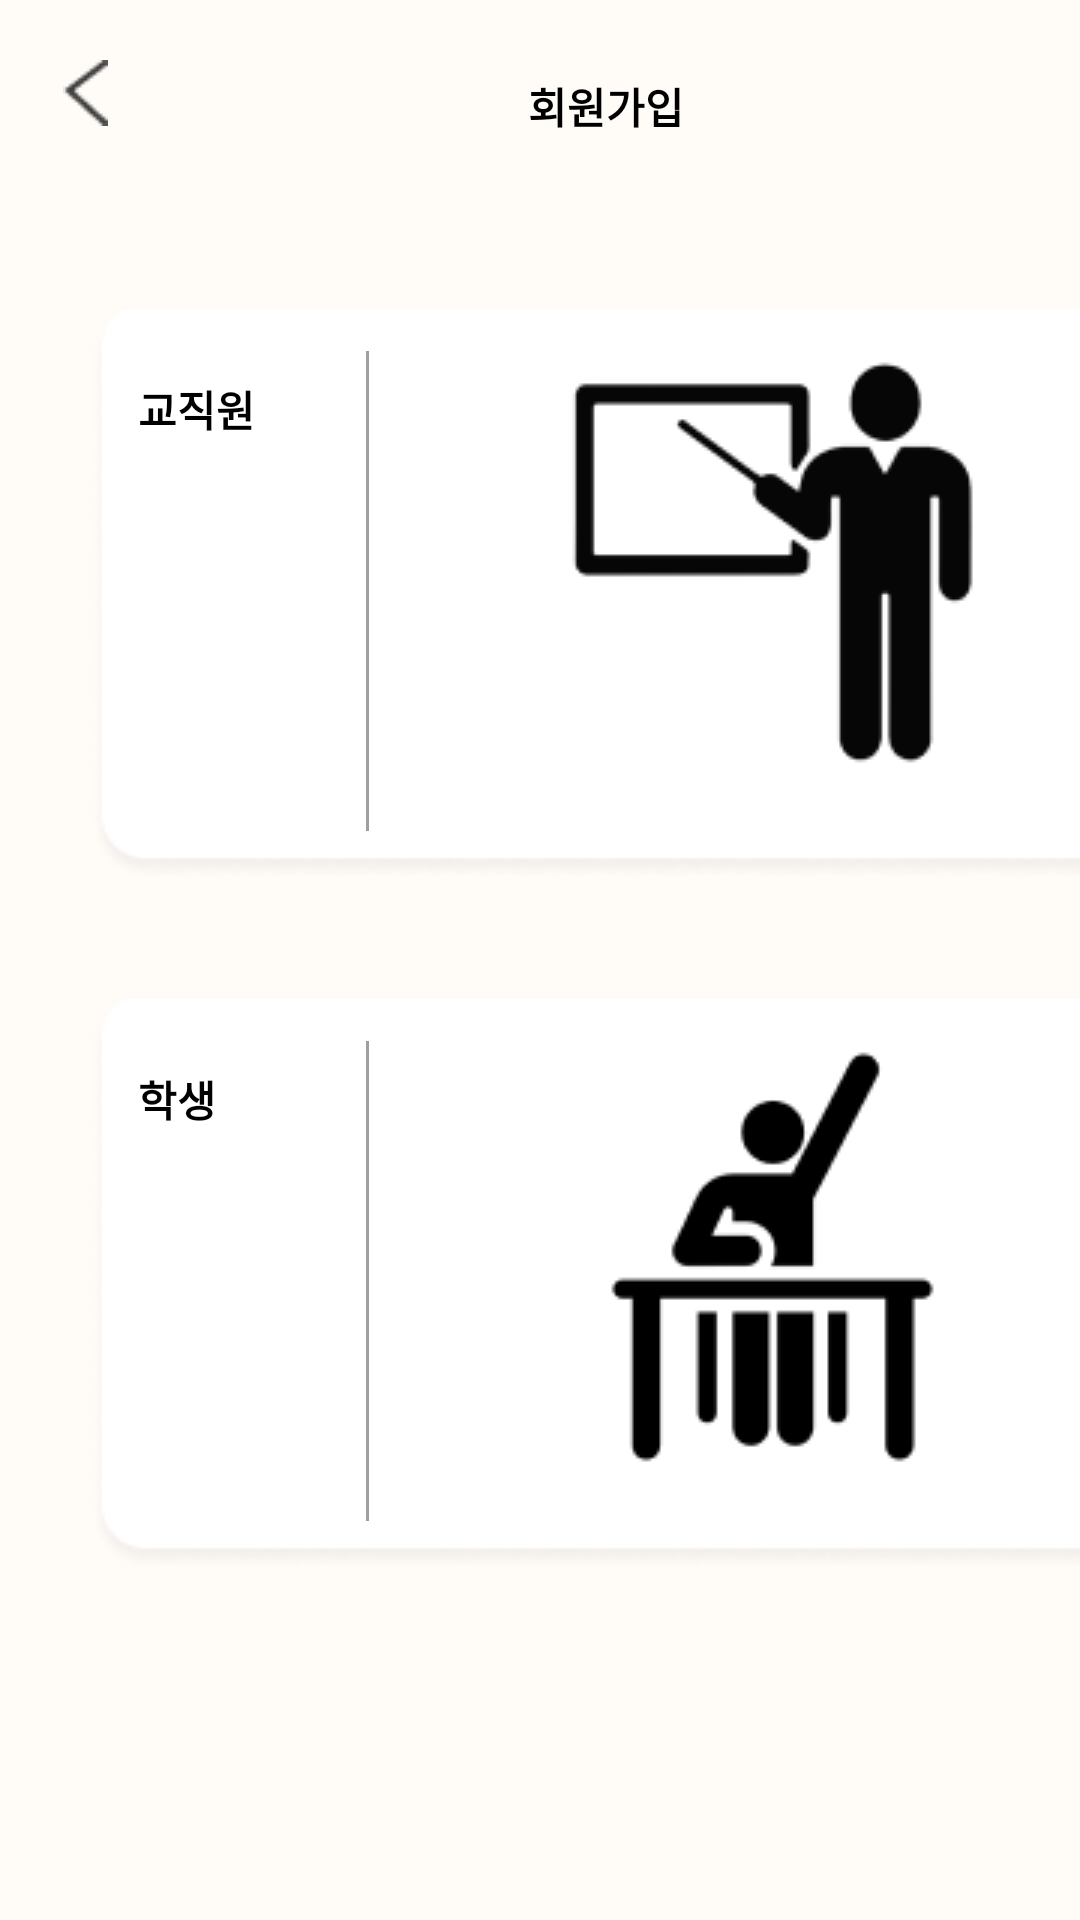

Named icons in this screenshot (1080px x 1920px) and their bounding boxes, (x1, y1, x2, y2):
back: (65, 60, 108, 126)
